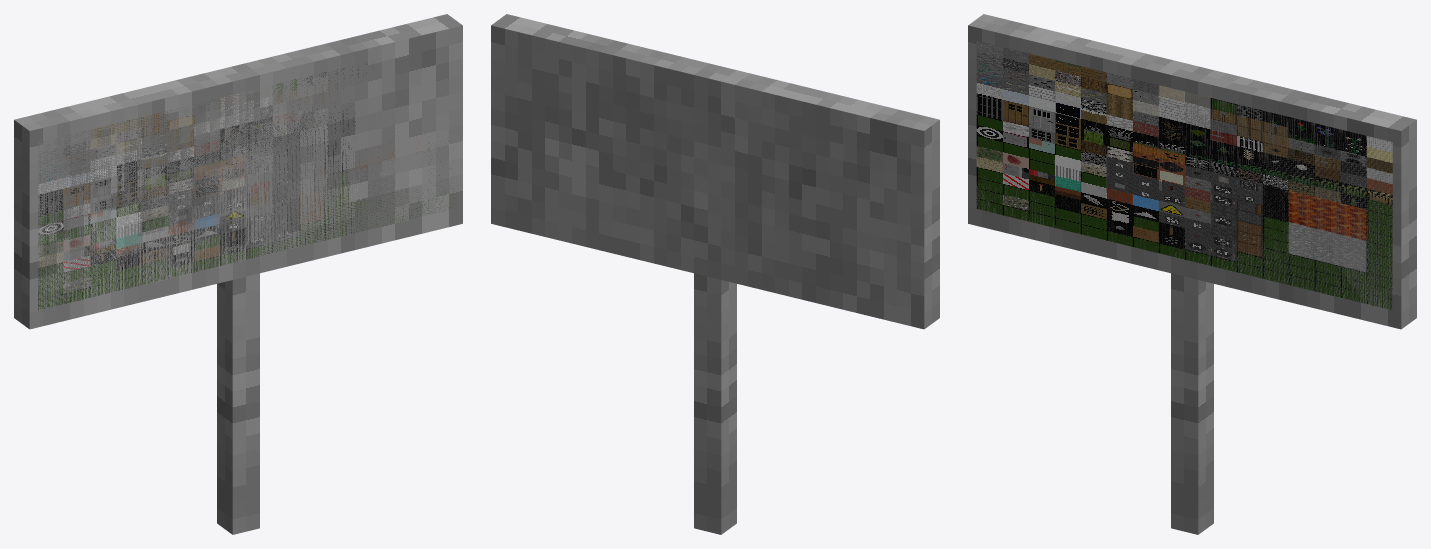
Rendered from IronSign.glb.
The picture shows the model from 3 angles, left to right: view 1: azimuth 30°, elevation 25°; view 2: azimuth 150°, elevation 25°; view 3: azimuth 330°, elevation 25°; orthographic projection.
Parts seen in each view (by area): view 1: Sign, Surface, Post; view 2: Sign, Post; view 3: Surface, Sign, Post.
Part boxes in pixels (left/top/right/bottom): Sign: left=14, top=14, right=462, bottom=329; Surface: left=38, top=68, right=454, bottom=309; Post: left=217, top=273, right=259, bottom=534; Sign: left=491, top=14, right=939, bottom=329; Post: left=694, top=273, right=736, bottom=534; Surface: left=976, top=41, right=1392, bottom=309; Sign: left=968, top=14, right=1416, bottom=329; Post: left=1171, top=273, right=1213, bottom=534.
Size of the model in its own units: 1 by 1 by 0.0626.
1 material, 1 textured.
